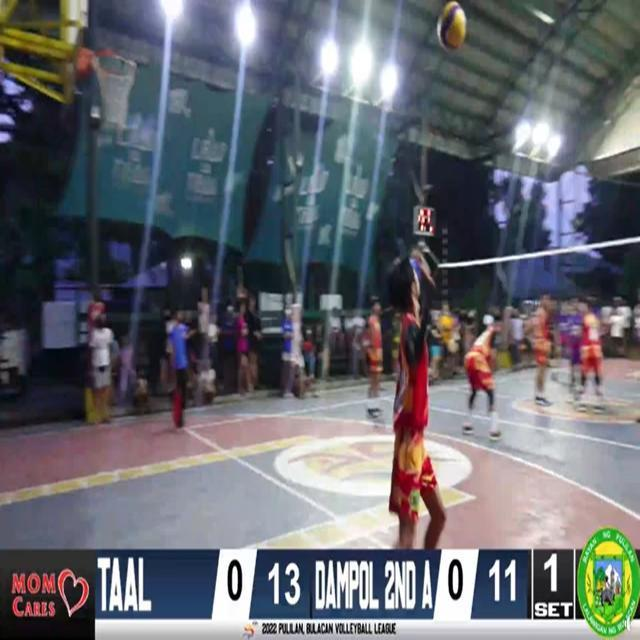volleyball: (436, 1, 468, 47)
